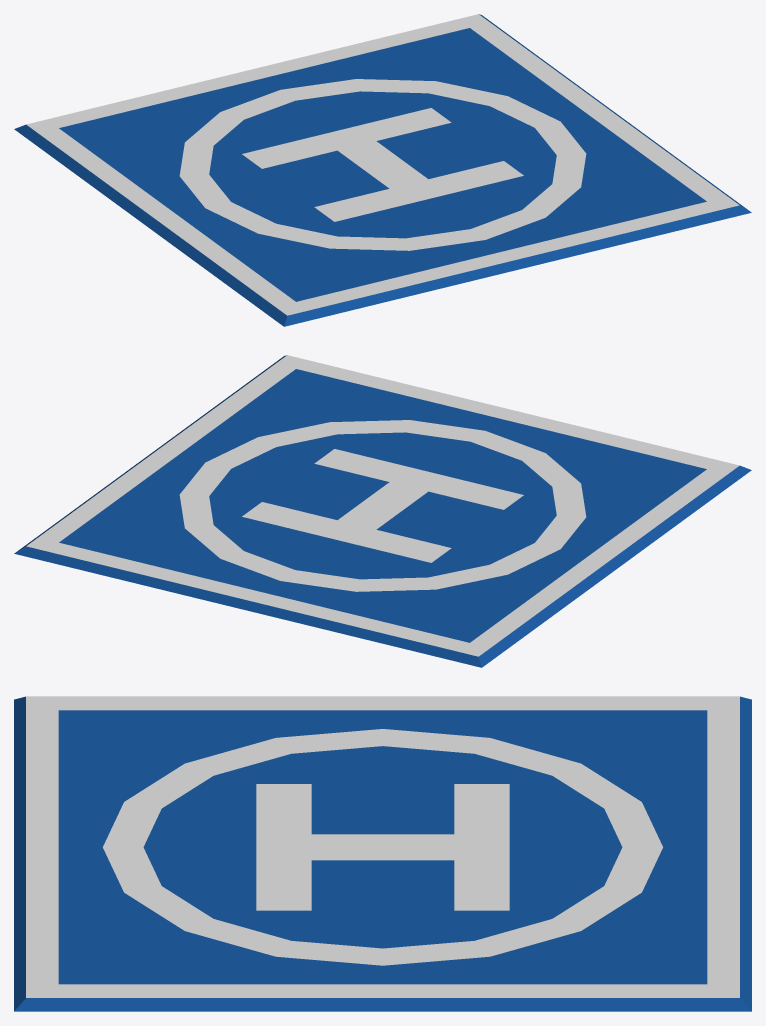
File: HeliLanding_1_D.fbx
3 views of the same model, one above another, from view 1: azimuth 30°, elevation 25°; view 2: azimuth 150°, elevation 25°; view 3: azimuth 270°, elevation 25° (orthographic). The views are drawn at different scales.
Visible parts, largest first — view 1: HeliLanding_1_D; view 2: HeliLanding_1_D; view 3: HeliLanding_1_D.
Part boxes in pixels (box(x1,y1,x2,y2)): HeliLanding_1_D: box(14, 14, 751, 326); HeliLanding_1_D: box(14, 355, 751, 667); HeliLanding_1_D: box(14, 696, 751, 1011).
Bounding box in the file's own units: 460 × 5.67 × 460.
